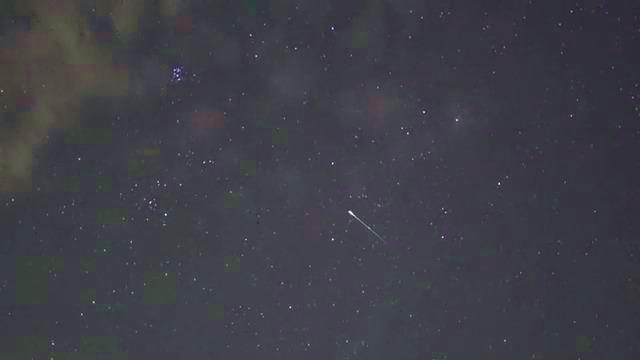meteorite: (328, 203, 401, 244)
